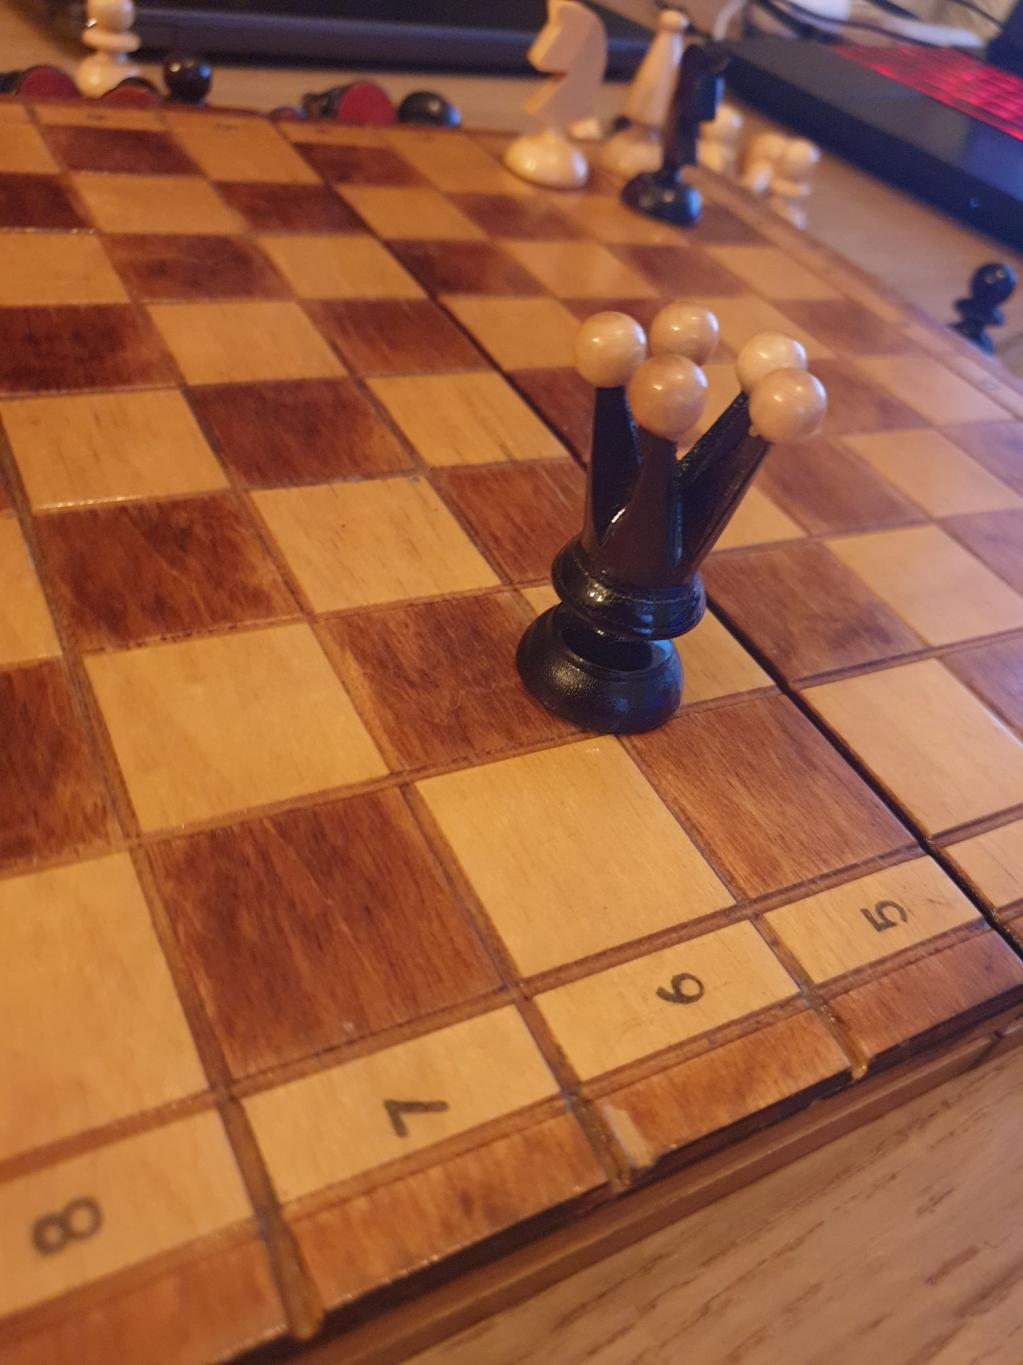bqueen: (515, 300, 826, 733)
